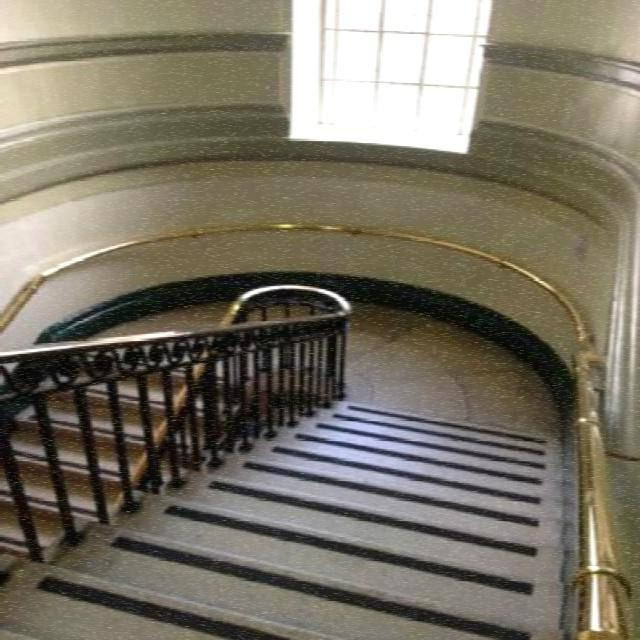stair: (0, 394, 563, 640), (1, 350, 248, 562)
